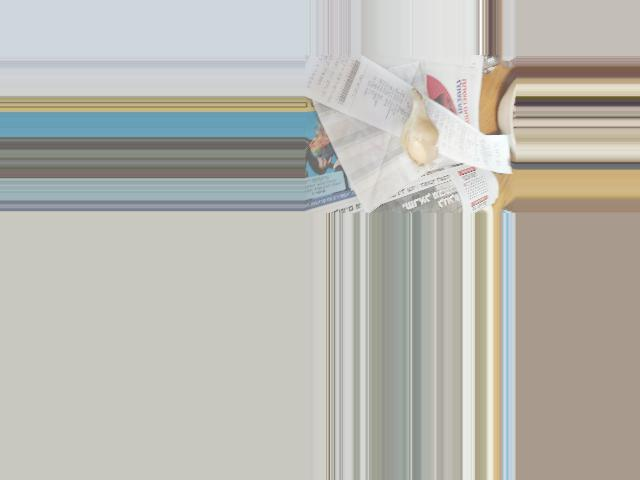onion: (397, 100, 438, 163)
